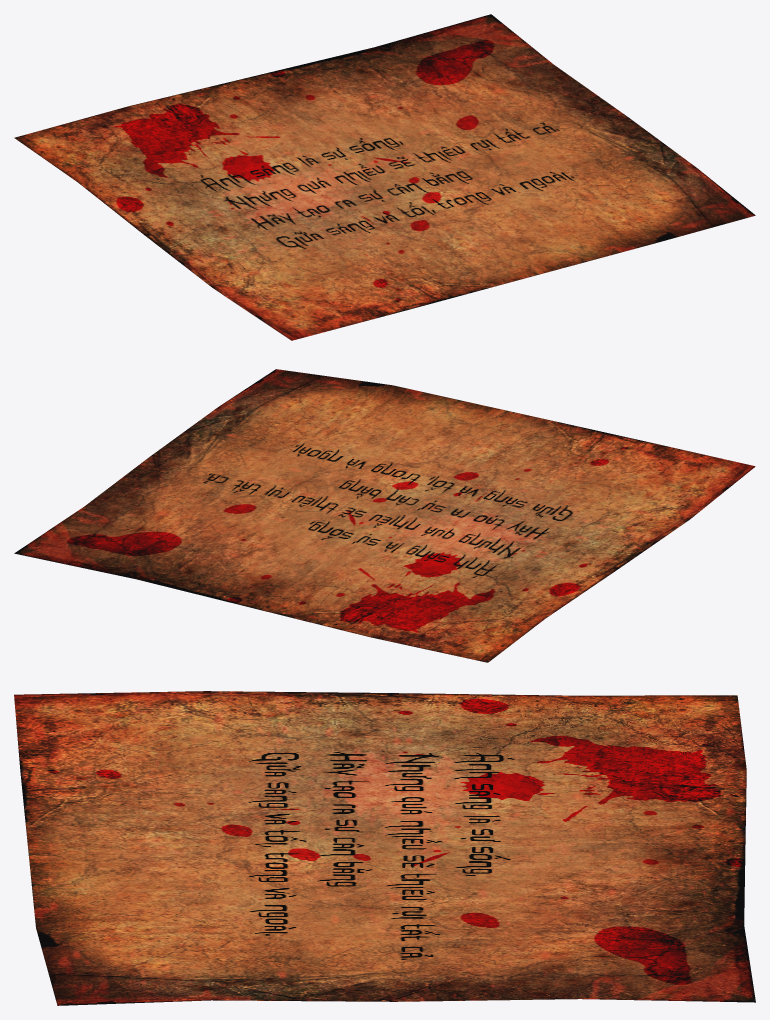
File: Gamemini1.fbx
3 renders of one model, top to bottom at view 1: azimuth 30°, elevation 25°; view 2: azimuth 150°, elevation 25°; view 3: azimuth 270°, elevation 25°, orthographic. The views are drawn at different scales.
Visible parts, largest first — view 1: Plane; view 2: Plane; view 3: Plane.
Boxes of the visible parts, x1,y1,x2,y2 form: Plane: [14, 14, 755, 340]; Plane: [14, 369, 755, 662]; Plane: [14, 691, 755, 1005].
Size of the model in its own units: 198 by 1.82 by 199.
Materials: 1 (1 with a texture image).
